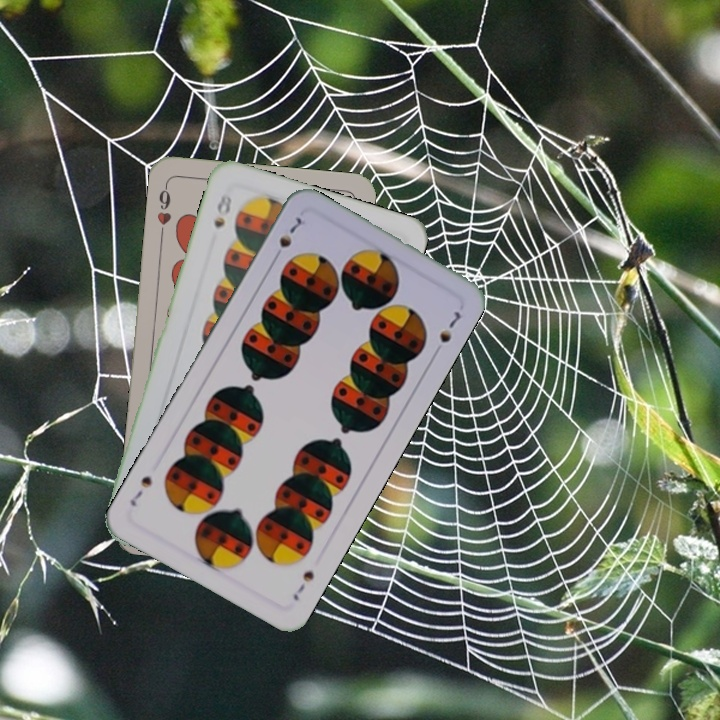H9: (153, 180, 174, 239)
S7: (269, 213, 305, 264), (288, 566, 317, 603)
S8: (209, 190, 235, 231)
